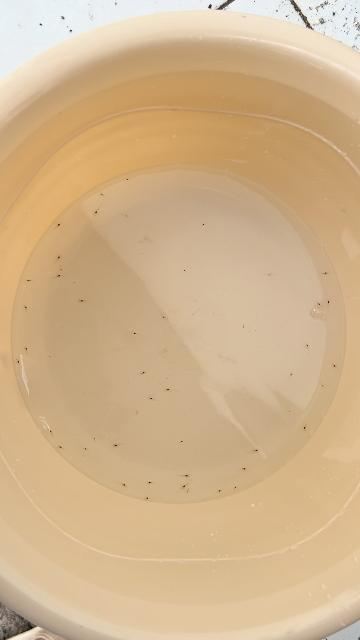benur: (93, 210, 99, 217), (57, 220, 63, 227), (98, 191, 104, 197), (15, 358, 21, 364), (185, 473, 191, 479), (231, 486, 237, 492), (254, 447, 260, 453), (301, 426, 307, 432), (324, 270, 330, 276), (58, 253, 63, 260), (77, 298, 84, 303), (215, 489, 222, 494), (57, 273, 63, 278), (25, 278, 30, 284), (143, 496, 149, 501), (180, 485, 186, 490), (318, 302, 323, 308), (141, 371, 147, 376), (130, 330, 136, 335), (23, 345, 28, 350), (82, 446, 87, 451), (123, 483, 128, 488), (146, 480, 151, 485), (333, 364, 338, 369), (326, 298, 331, 303), (241, 326, 247, 330), (126, 178, 131, 182), (59, 267, 64, 271), (23, 304, 27, 309), (48, 428, 52, 433), (112, 444, 117, 448), (243, 467, 248, 471), (289, 372, 294, 376), (305, 343, 310, 347), (148, 396, 152, 401), (164, 388, 169, 392), (181, 439, 185, 444), (56, 445, 62, 448), (185, 490, 189, 494), (320, 384, 324, 388), (267, 272, 271, 276), (201, 222, 205, 226), (125, 215, 130, 218), (93, 436, 96, 440), (136, 411, 139, 415), (170, 310, 174, 313), (183, 269, 187, 272), (162, 316, 165, 319)
